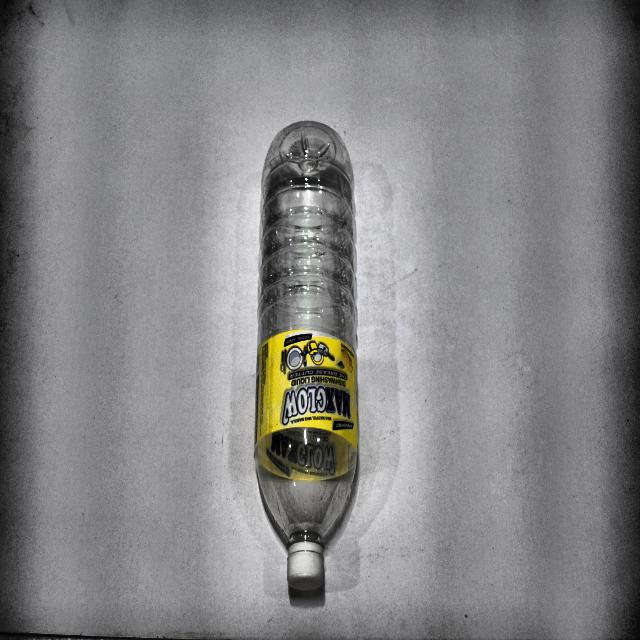Bottles: (252, 112, 367, 598)
